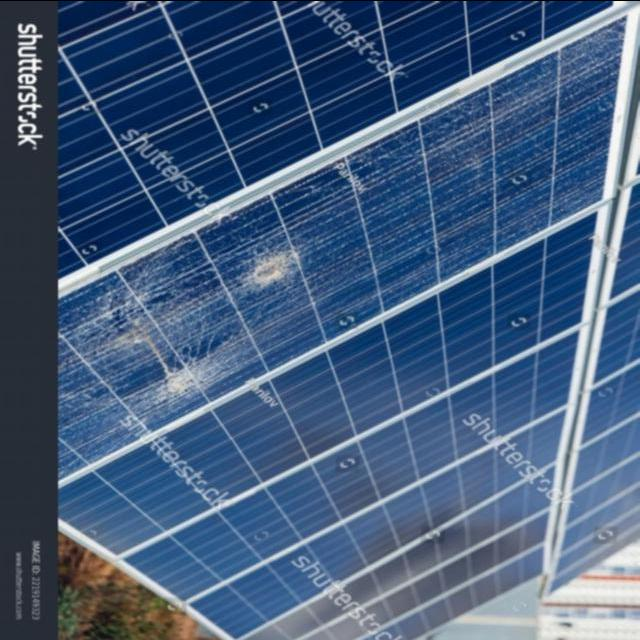cracked: (48, 14, 636, 468)
